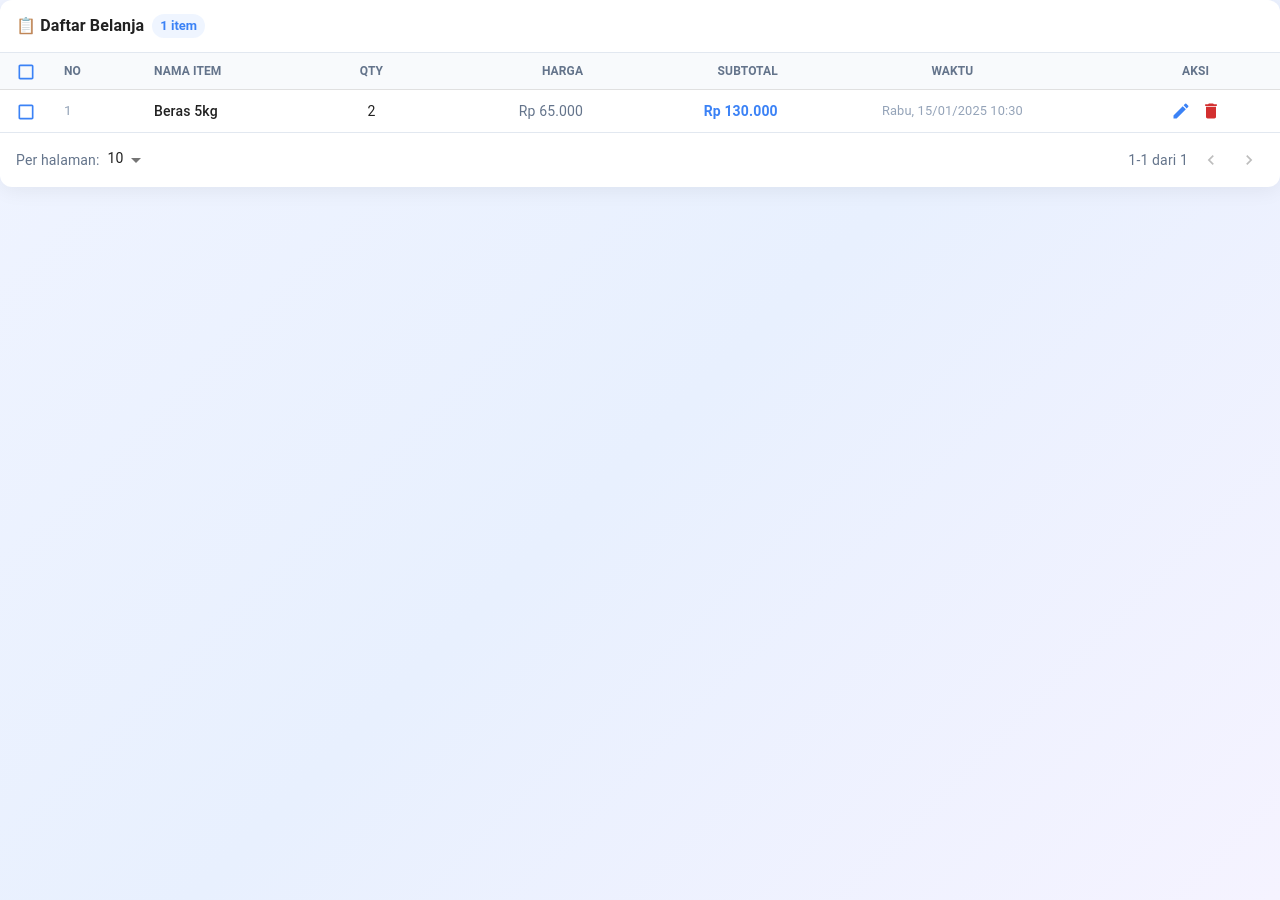
Scenario: NoteList › opens edit modal when edit button clicked
Click the button named "edit": (1181, 111) [1166,96,1196,126]
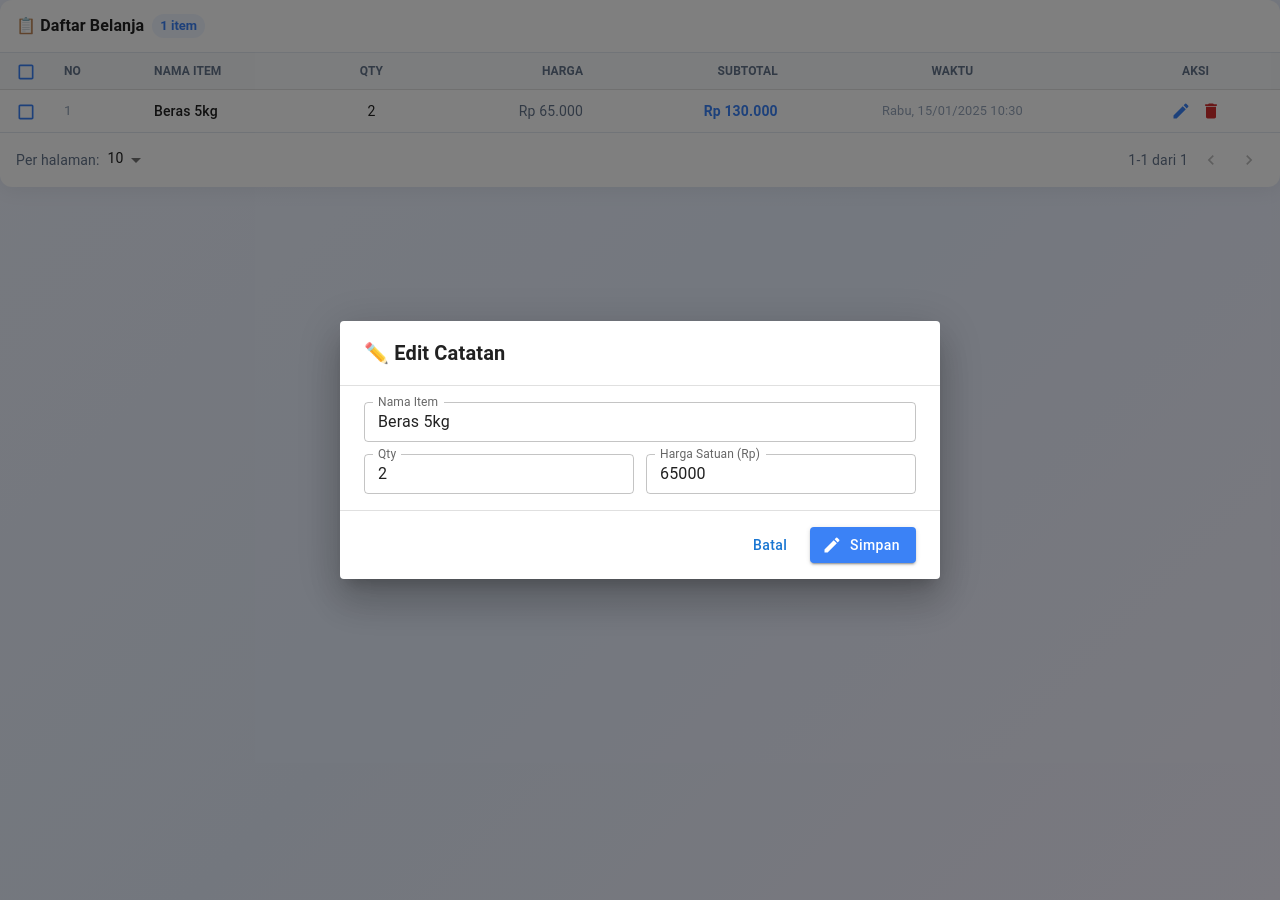
Check: the dialog is shown, box [340,321,940,579]
